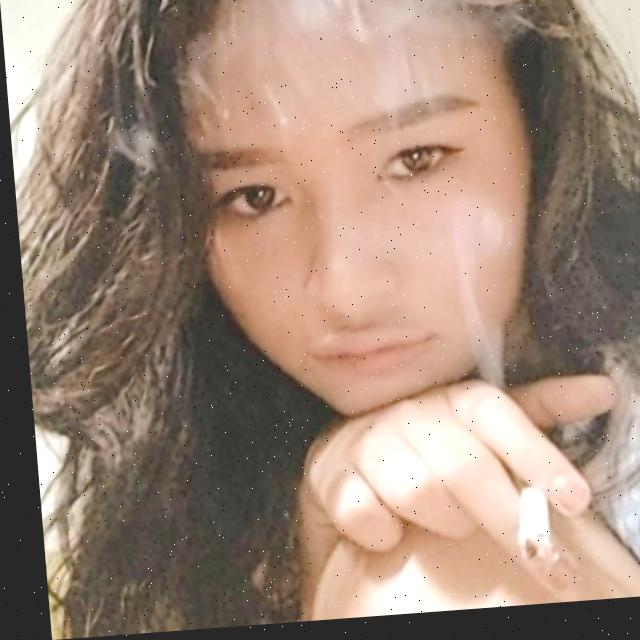cigarette: (505, 494, 543, 578)
